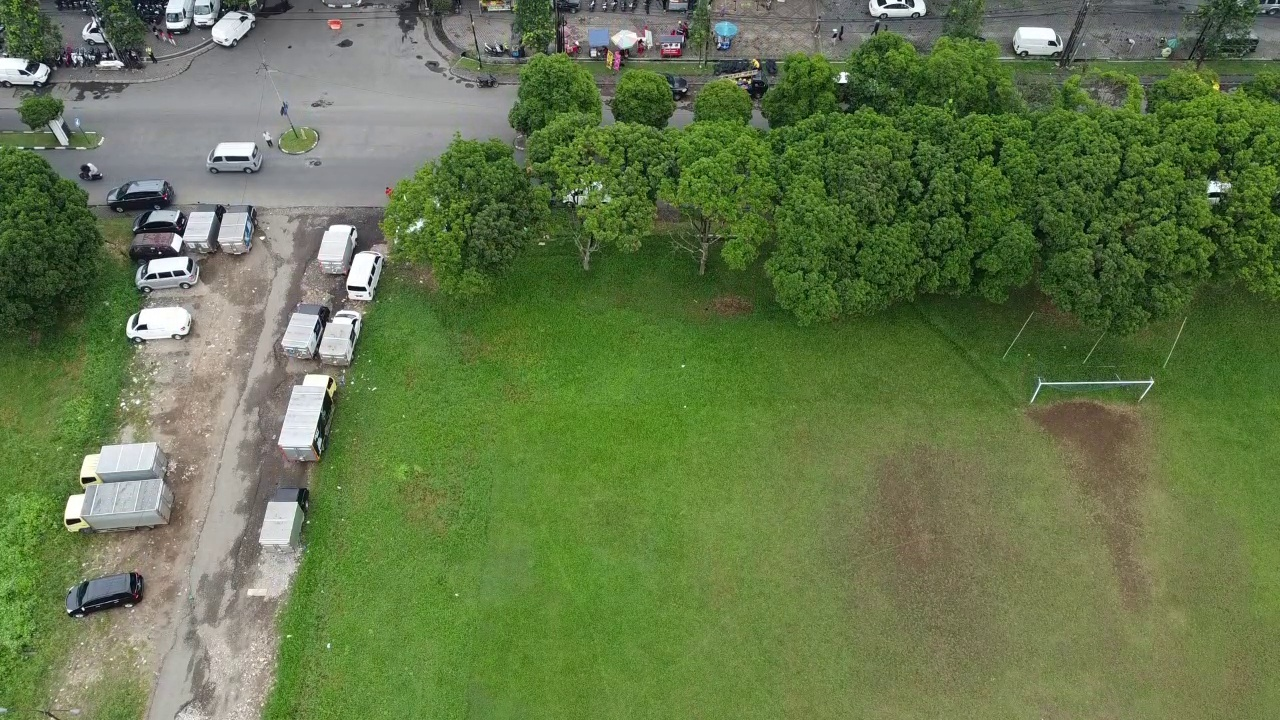mobil: (59, 572, 154, 621), (101, 176, 182, 216), (199, 132, 268, 176), (124, 306, 194, 344), (342, 245, 385, 305), (1010, 23, 1070, 63), (137, 257, 201, 294), (1, 51, 57, 91), (208, 7, 258, 46), (132, 230, 184, 261), (866, 1, 931, 24), (133, 207, 185, 235), (160, 1, 198, 27), (191, 1, 220, 33)
